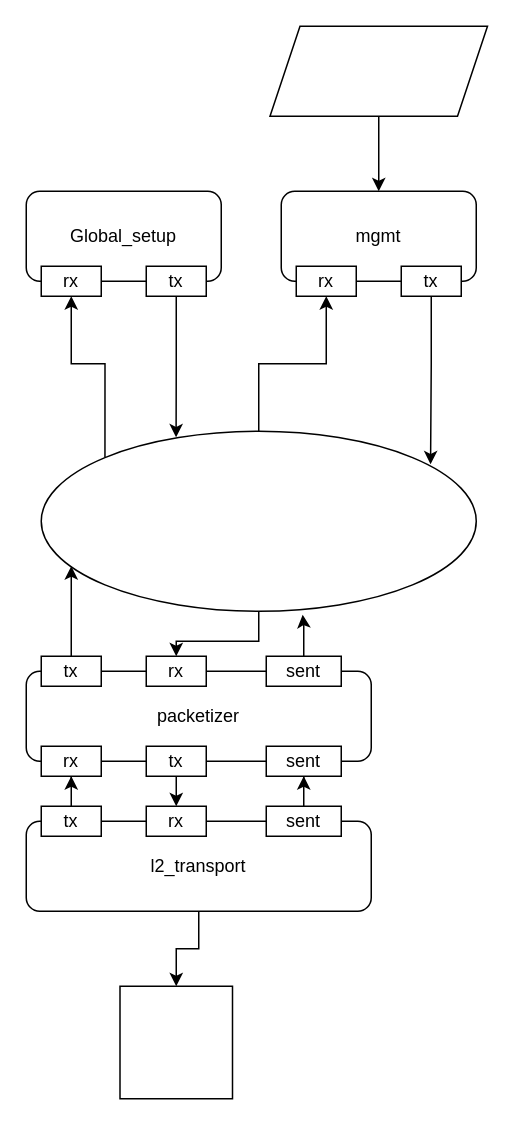
This 515x1125 diagram has some shape labels left out. Here are the shapes that lost their labels. From the top down, the centre of each, then its label:
At (x=378, y=70): "Пользователь или способ автоматизации".
At (x=258, y=520): "Core".
At (x=175, y=1042): "Сетевой интерфейс".
